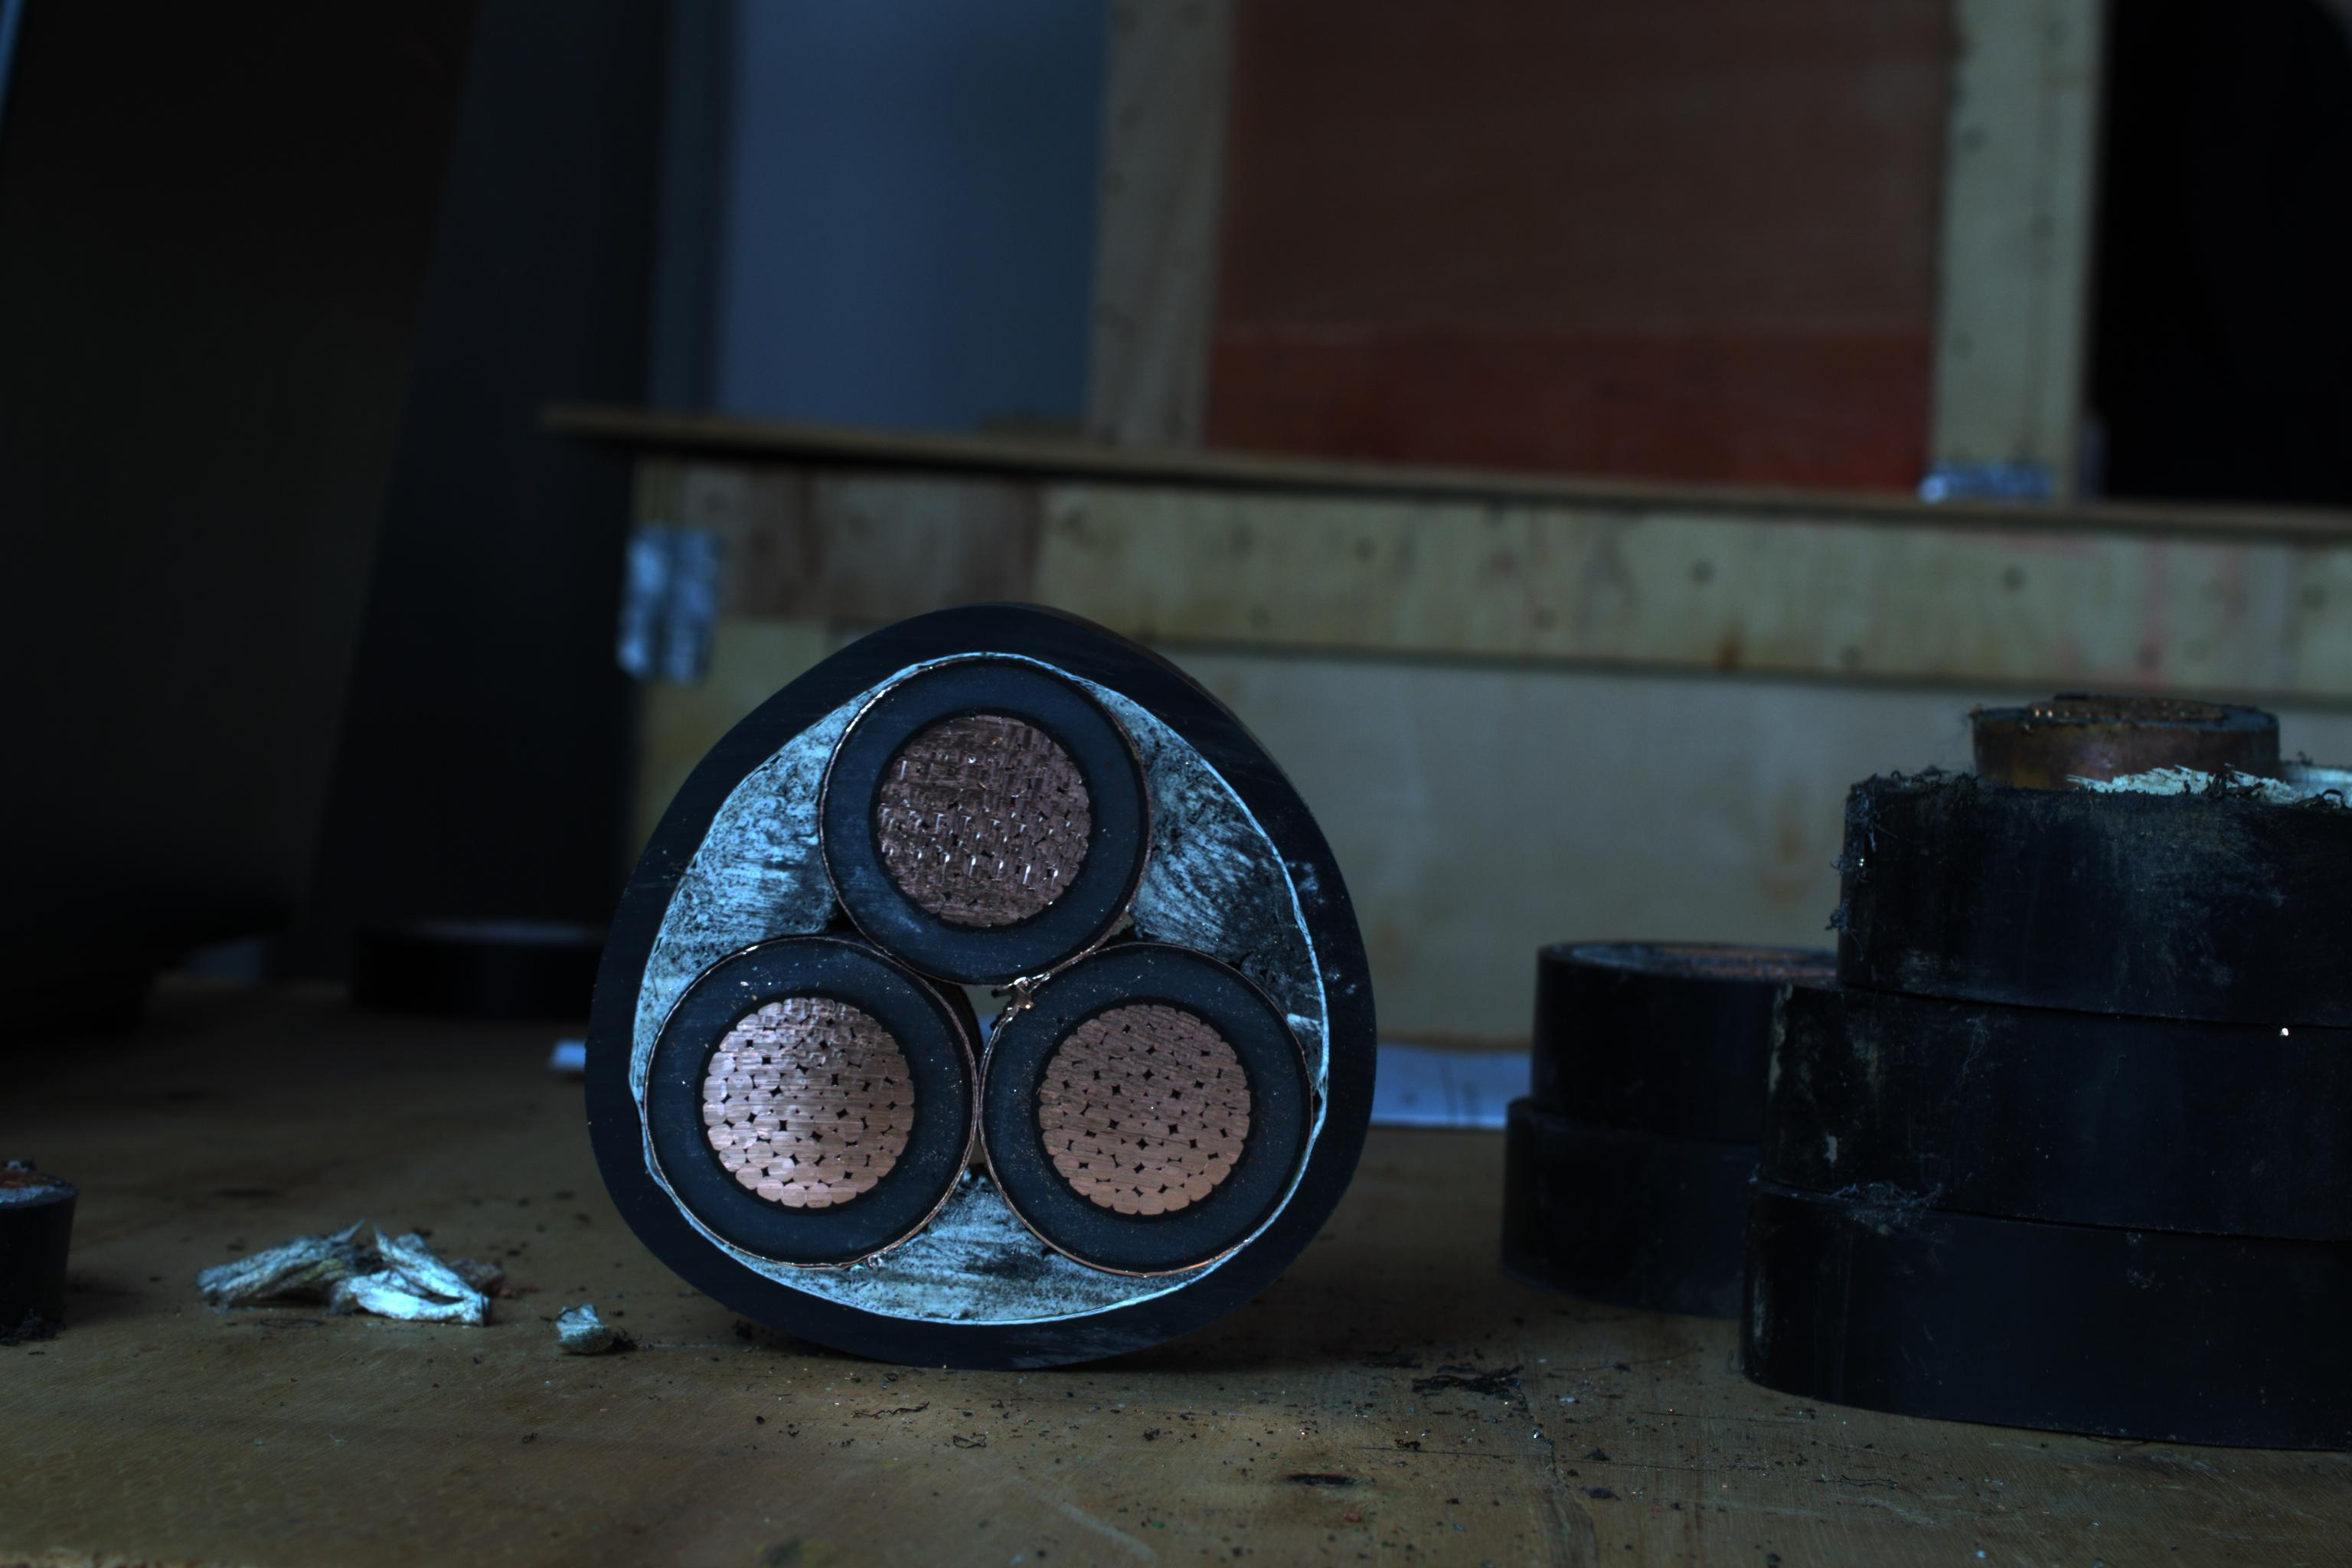ZA_YJV_8.7_10kV_3x400: (588, 611, 1409, 1391)
